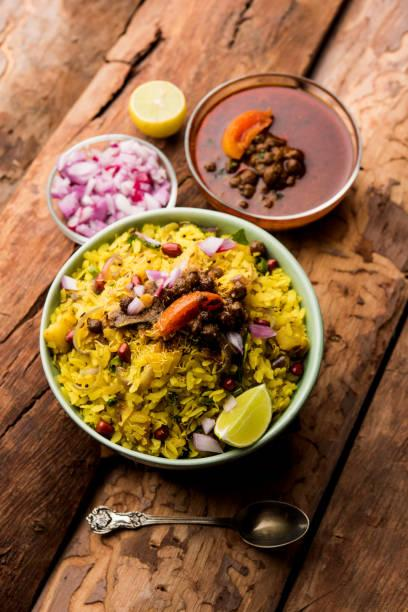poha: (46, 234, 313, 463)
salad: (53, 153, 169, 234)
